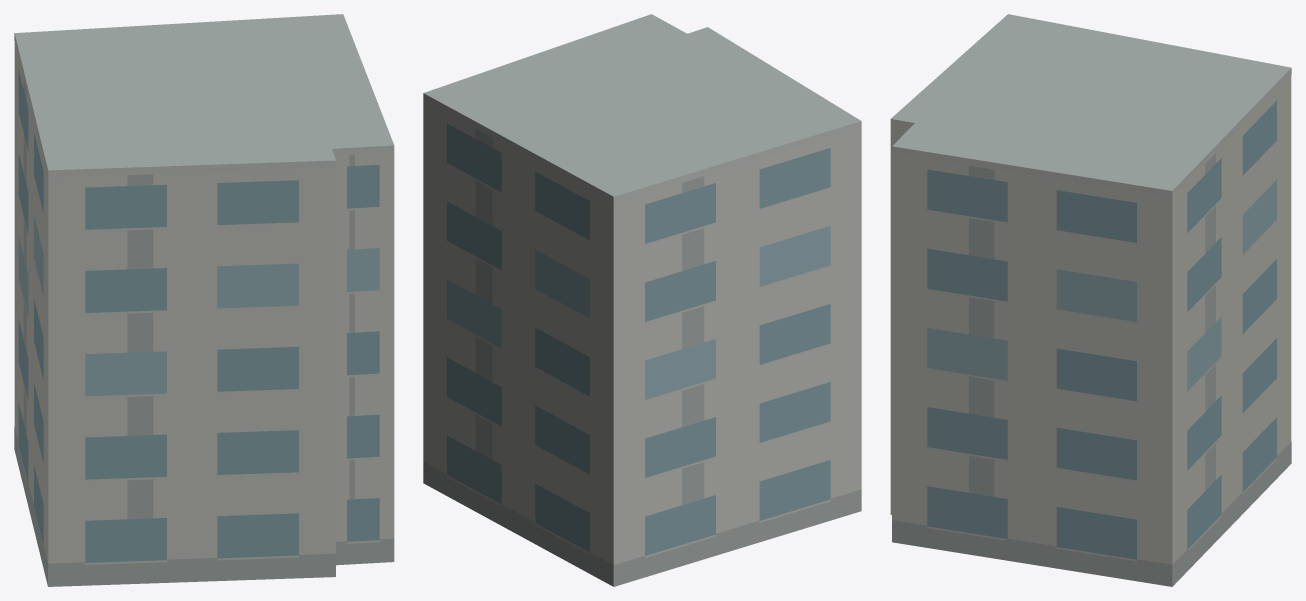
The model's file is survey-upis-32903041.glb.
The picture shows the model from 3 angles, left to right: view 1: azimuth 30°, elevation 25°; view 2: azimuth 150°, elevation 25°; view 3: azimuth 270°, elevation 25°; orthographic projection. The views are drawn at different scales.
Visible parts, largest first — view 1: survey-upis-32903041.tmp; view 2: survey-upis-32903041.tmp; view 3: survey-upis-32903041.tmp.
Boxes of the visible parts, left/top/right/bottom form: survey-upis-32903041.tmp: left=14, top=14, right=394, bottom=586; survey-upis-32903041.tmp: left=423, top=14, right=861, bottom=586; survey-upis-32903041.tmp: left=890, top=14, right=1291, bottom=586.
Bounding box in the file's own units: 12.85 × 13.4 × 12.31.
